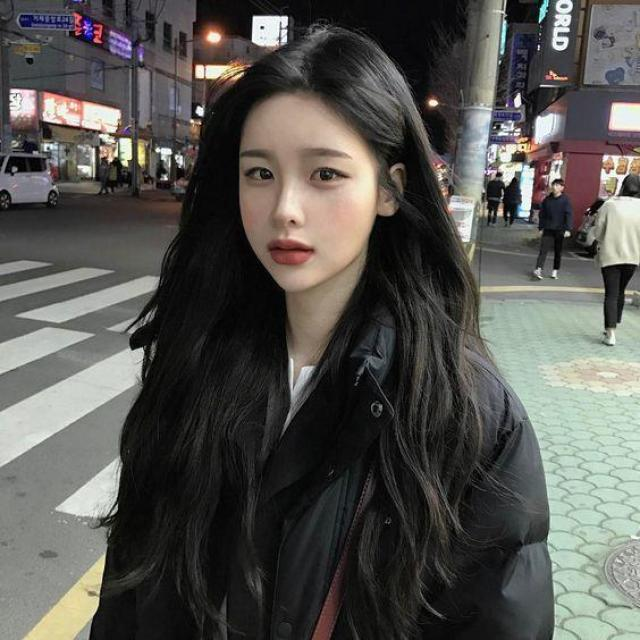Nonhelmet: (178, 21, 428, 318)
